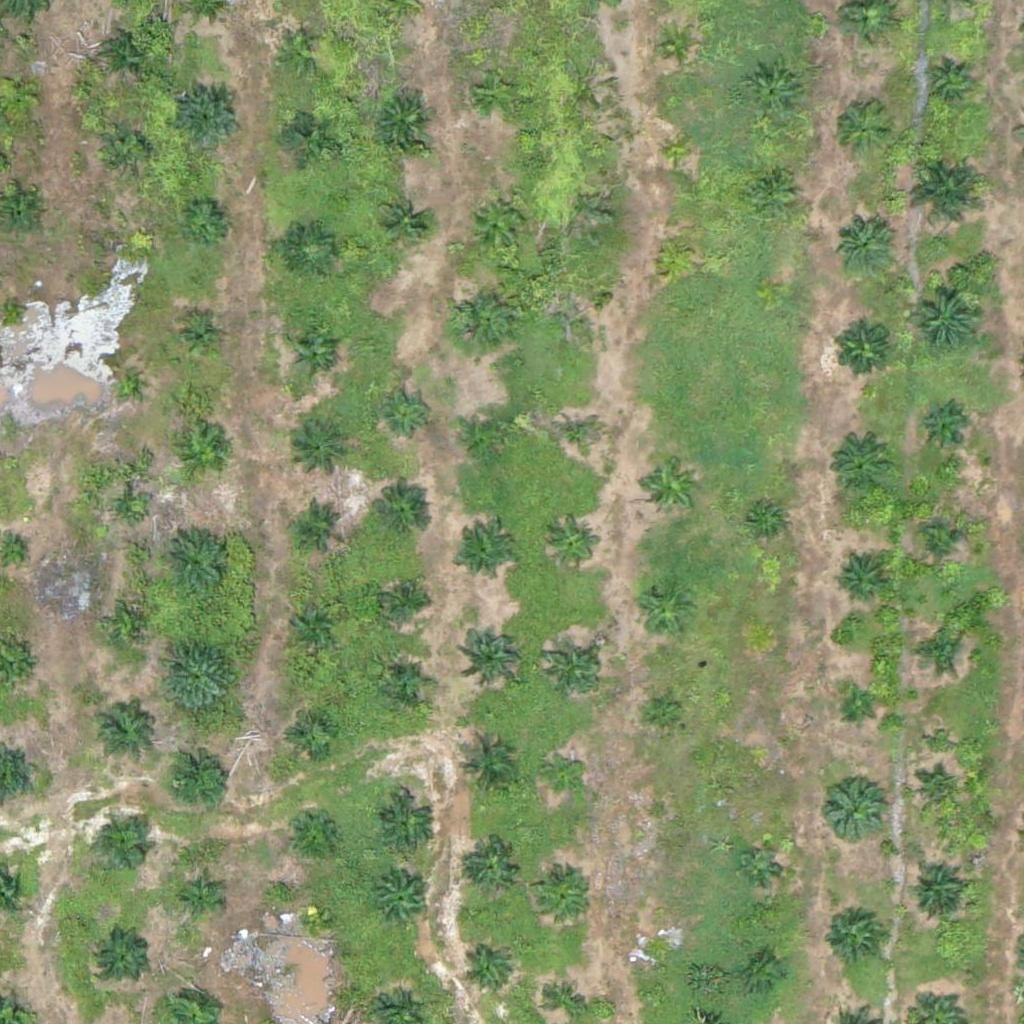Kelapa_Sawit: (904, 148, 991, 236), (157, 524, 232, 600), (161, 742, 236, 818), (161, 638, 236, 714), (907, 279, 982, 354), (821, 775, 884, 838), (90, 697, 153, 760), (632, 579, 695, 642), (375, 793, 438, 856), (830, 97, 893, 160), (833, 214, 896, 277), (291, 417, 354, 480), (449, 288, 512, 351), (639, 456, 702, 519), (178, 86, 241, 149), (744, 63, 807, 126), (370, 486, 433, 549), (454, 524, 516, 587), (822, 902, 884, 965), (455, 737, 517, 800), (542, 638, 604, 701), (458, 621, 520, 684), (827, 434, 889, 497), (831, 317, 893, 380), (905, 859, 967, 922), (373, 90, 435, 153), (467, 191, 529, 254), (372, 872, 434, 934), (548, 517, 598, 568), (833, 555, 883, 606), (910, 625, 960, 676), (285, 225, 335, 276), (283, 107, 333, 158), (103, 29, 153, 80), (104, 123, 154, 174), (180, 196, 230, 247), (378, 196, 428, 247), (552, 411, 602, 462), (464, 409, 514, 460), (382, 386, 432, 437), (290, 328, 340, 379), (101, 822, 151, 872), (97, 932, 147, 982), (287, 805, 337, 855), (286, 709, 336, 759), (468, 840, 518, 890), (538, 872, 588, 922), (914, 405, 964, 455), (179, 430, 229, 480), (747, 164, 797, 214), (911, 768, 961, 818), (915, 519, 965, 569), (473, 67, 523, 117), (276, 27, 326, 77), (380, 575, 430, 625), (382, 659, 432, 709), (288, 595, 338, 645), (293, 500, 343, 550), (175, 313, 225, 363), (463, 944, 513, 994), (923, 57, 972, 108), (179, 878, 217, 916), (658, 27, 696, 65), (660, 134, 698, 172), (656, 234, 694, 272), (747, 505, 785, 543), (543, 757, 581, 795), (641, 940, 679, 978), (547, 982, 585, 1020), (746, 956, 783, 994), (838, 688, 875, 726), (563, 286, 600, 324), (646, 694, 683, 731), (741, 844, 778, 881), (119, 615, 144, 641), (112, 370, 137, 395), (117, 498, 142, 523), (300, 906, 325, 931)
